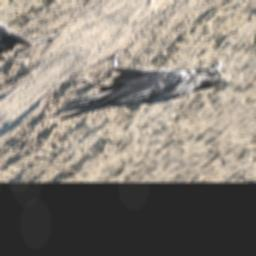Crow: (30, 33, 243, 146)
